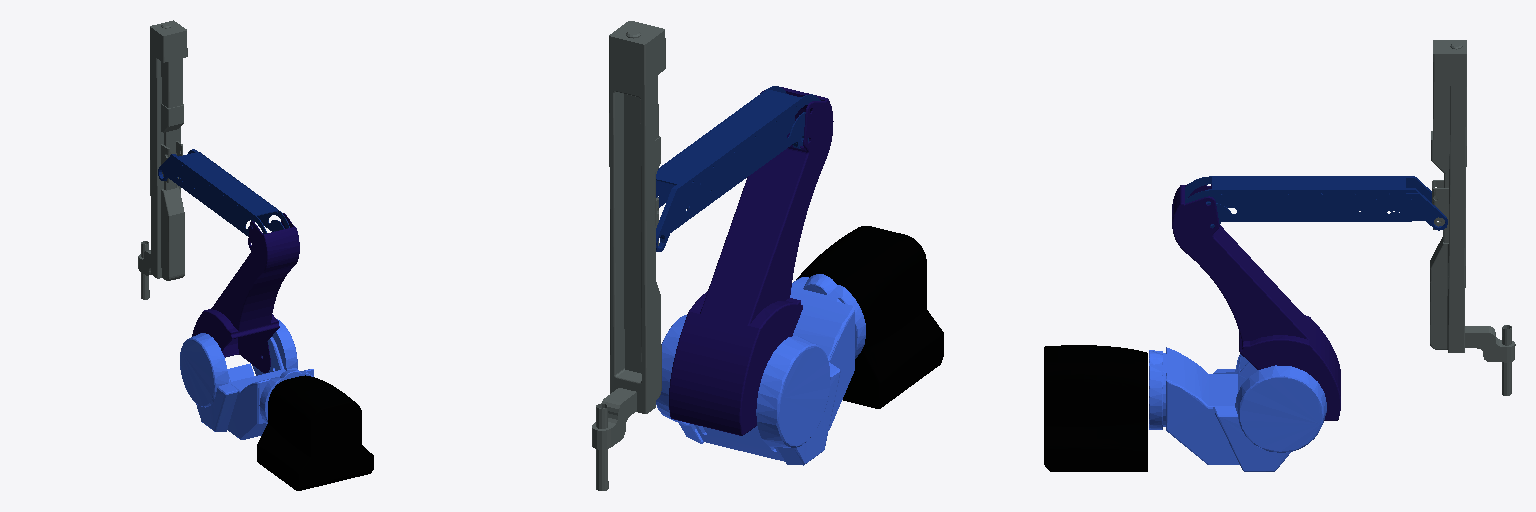
URDF robot description (robot):
<?xml version="1.0" ?>
<robot name="robot">
	<link name="world"/>
	<link name="base_link">
		<inertial>
			<mass value="0.1"/>
			<inertia ixx="0.0" ixy="0" ixz="0" iyy="0.0" iyz="0" izz="0.0"/>
			<origin xyz="-0.0046 -0.0 0.0801" rpy="0 0 0"/>
		</inertial>
		<visual>
			<origin xyz="0 0 0" rpy="0 0 0"/>
			<geometry>
				<mesh filename="package://ecm_description/meshes/base_link.dae"/>
			</geometry>
			<material name="color1">
				<color rgba="0.0106 0.0122 0.0112 1.0"/>
			</material>
		</visual>
		<collision>
			<origin xyz="0 0 0" rpy="0 0 0"/>
			<geometry>
				<mesh filename="package://ecm_description/meshes/base_link.STL"/>
			</geometry>
		</collision>
	</link>
	<gazebo reference="base_link">
		<selfCollide>true</selfCollide>
		<gravity>true</gravity>
		<material>Gazebo/Black</material>
	</gazebo>
	<link name="main_insertion_link">
		<inertial>
			<mass value="0.331"/>
			<inertia ixx="0.0" ixy="0" ixz="0" iyy="0.0" iyz="0" izz="0.0"/>
			<origin xyz="-0.059 -0.0165 0.0008" rpy="0 0 0"/>
		</inertial>
		<visual>
			<origin xyz="0 0 0" rpy="0 0 0"/>
			<geometry>
				<mesh filename="package://ecm_description/meshes/main_insertion_link.STL"/>
			</geometry>
			<material name="color2">
				<color rgba="0.0871 0.0871 0.0871 1.0"/>
			</material>
		</visual>
		<collision>
			<origin xyz="0 0 0" rpy="0 0 0"/>
			<geometry>
				<mesh filename="package://ecm_description/meshes/main_insertion_link.STL"/>
			</geometry>
		</collision>
	</link>
	<gazebo reference="main_insertion_link">
		<selfCollide>true</selfCollide>
		<gravity>true</gravity>
		<material>Gazebo/Purple</material>
	</gazebo>
	<link name="pitch_bottom_link">
		<inertial>
			<mass value="0.45899999999999996"/>
			<inertia ixx="0.0" ixy="0" ixz="0" iyy="0.0" iyz="0" izz="0.0"/>
			<origin xyz="0.1491 -0.0182 -0.0" rpy="0 0 0"/>
		</inertial>
		<visual>
			<origin xyz="0 0 0" rpy="0 0 0"/>
			<geometry>
				<mesh filename="package://ecm_description/meshes/pitch_bottom_link.dae"/>
			</geometry>
			<material name="color3">
				<color rgba="0.0938 0.2051 0.4672 1.0"/>
			</material>
		</visual>
		<collision>
			<origin xyz="0 0 0" rpy="0 0 0"/>
			<geometry>
				<mesh filename="package://ecm_description/meshes/pitch_bottom_link.STL"/>
			</geometry>
		</collision>
	</link>
	<gazebo reference="pitch_bottom_link">
		<selfCollide>true</selfCollide>
		<gravity>true</gravity>
		<material>Gazebo/Blu</material>
	</gazebo>
	<link name="pitch_end_link">
		<inertial>
			<mass value="2.132"/>
			<inertia ixx="0.0" ixy="0" ixz="0" iyy="0.0" iyz="0" izz="0.0"/>
			<origin xyz="0.0513 0.0048 0.0008" rpy="0 0 0"/>
		</inertial>
		<visual>
			<origin xyz="0 0 0" rpy="0 0 0"/>
			<geometry>
				<mesh filename="package://ecm_description/meshes/pitch_end_link.dae"/>
			</geometry>
			<material name="color4">
				<color rgba="0.3754 0.4109 0.4109 1.0"/>
			</material>
		</visual>
		<collision>
			<origin xyz="0 0 0" rpy="0 0 0"/>
			<geometry>
				<mesh filename="package://ecm_description/meshes/pitch_end_link.STL"/>
			</geometry>
		</collision>
	</link>
	<gazebo reference="pitch_end_link">
		<selfCollide>true</selfCollide>
		<gravity>true</gravity>
		<material>Gazebo/SkyBlue</material>
	</gazebo>
	<link name="pitch_front_link">
		<inertial>
			<mass value="1.707"/>
			<inertia ixx="0.0" ixy="0" ixz="0" iyy="0.0" iyz="0" izz="0.0"/>
			<origin xyz="-0.0365 -0.1526 -0.0" rpy="0 0 0"/>
		</inertial>
		<visual>
			<origin xyz="0 0 0" rpy="0 0 0"/>
			<geometry>
				<mesh filename="package://ecm_description/meshes/pitch_front_link.dae"/>
			</geometry>
			<material name="color5">
				<color rgba="0.1344 0.0886 0.3672 1.0"/>
			</material>
		</visual>
		<collision>
			<origin xyz="0 0 0" rpy="0 0 0"/>
			<geometry>
				<mesh filename="package://ecm_description/meshes/pitch_front_link.STL"/>
			</geometry>
		</collision>
	</link>
	<gazebo reference="pitch_front_link">
		<selfCollide>true</selfCollide>
		<gravity>true</gravity>
		<material>Gazebo/Indigo</material>
	</gazebo>
	<link name="tool_link">
		<inertial>
			<mass value="2.007"/>
			<inertia ixx="0.0" ixy="0" ixz="0" iyy="0.0" iyz="0" izz="0.0"/>
			<origin xyz="-0.0 -0.0008 -0.0723" rpy="0 0 0"/>
		</inertial>
		<visual>
			<origin xyz="0 0 0" rpy="0 0 0"/>
			<geometry>
				<mesh filename="package://ecm_description/meshes/tool_link.STL"/>
			</geometry>
			<material name="color6">
				<color rgba="0.273 0.3733 0.6266 1.0"/>
			</material>
		</visual>
		<collision>
			<origin xyz="0 0 0" rpy="0 0 0"/>
			<geometry>
				<mesh filename="package://ecm_description/meshes/tool_link.STL"/>
			</geometry>
		</collision>
	</link>
	<gazebo reference="tool_link">
		<selfCollide>true</selfCollide>
		<gravity>true</gravity>
		<material>Gazebo/BlueTransparent</material>
	</gazebo>
	<link name="yaw_link">
		<inertial>
			<mass value="6.5169999999999995"/>
			<inertia ixx="0.0" ixy="0" ixz="0" iyy="0.0" iyz="0" izz="0.0"/>
			<origin xyz="0.0 -0.0161 0.1345" rpy="0 0 0"/>
		</inertial>
		<visual>
			<origin xyz="0 0 0" rpy="0 0 0"/>
			<geometry>
				<mesh filename="package://ecm_description/meshes/yaw_link.dae"/>
			</geometry>
			<material name="color7">
				<color rgba="0.3072 0.4814 0.955 1.0"/>
			</material>
		</visual>
		<collision>
			<origin xyz="0 0 0" rpy="0 0 0"/>
			<geometry>
				<mesh filename="package://ecm_description/meshes/yaw_link.STL"/>
			</geometry>
		</collision>
	</link>
	<gazebo reference="yaw_link">
		<selfCollide>true</selfCollide>
		<gravity>true</gravity>
		<material>Gazebo/BlueLaser</material>
	</gazebo>
	<joint name="base_joint" type="fixed">
		<parent link="world"/>
		<child link="base_link"/>
		<origin xyz="0.0 0.0 1.5" rpy="0.0 0.0 0.0"/>
	</joint>
	<joint name="base_link__yaw_link" type="revolute">
		<parent link="base_link"/>
		<child link="yaw_link"/>
		<origin xyz="-7.380001284085225e-06 -0.536900009262 0.0" rpy="1.5708 -0.0 3.1414"/>
		<axis xyz="-0.0 -0.0 -1.0"/>
		<limit lower="-1.595" upper="1.582" effort="1000" velocity="1"/>
		<dynamics damping="2.0" friction="0.0"/>
	</joint>
	<transmission name="yaw_link_trans">
		<type>transmission_interface/SimpleTransmission</type>
		<joint name="base_link__yaw_link">
			<hardwareInterface>hardware_interface/PositionJointInterface</hardwareInterface>
		</joint>
		<actuator name="yaw_link_motor">
			<hardwareInterface>hardware_interface/PositionJointInterface</hardwareInterface>
			<mechanicalReduction>1</mechanicalReduction>
		</actuator>
	</transmission>
	<joint name="main_insertion_link__tool_link" type="revolute">
		<parent link="main_insertion_link"/>
		<child link="tool_link"/>
		<origin xyz="0.0010359395658425807 -0.061909506627982336 -0.00019954522228837757" rpy="-1.5707963267814042 3.6732051033300526e-06 1.5708"/>
		<axis xyz="-0.0 -0.0 -1.0"/>
		<limit lower="-1.553" upper="1.567" effort="1000" velocity="1"/>
		<dynamics damping="0.2" friction="0.0"/>
	</joint>
	<transmission name="tool_link_trans">
		<type>transmission_interface/SimpleTransmission</type>
		<joint name="main_insertion_link__tool_link">
			<hardwareInterface>hardware_interface/PositionJointInterface</hardwareInterface>
		</joint>
		<actuator name="tool_link_motor">
			<hardwareInterface>hardware_interface/PositionJointInterface</hardwareInterface>
			<mechanicalReduction>1</mechanicalReduction>
		</actuator>
	</transmission>
	<joint name="pitch_bottom_link__pitch_end_link" type="revolute">
		<parent link="pitch_bottom_link"/>
		<child link="pitch_end_link"/>
		<origin xyz="0.34009999779378264 -0.00019999779148682784 -0.0006012499916885905" rpy="-1.0330840927080905e-10 -2.7548780003591397e-08 0.007499999999949406"/>
		<axis xyz="0.0 -0.0 1.0"/>
		<limit lower="-0.784" upper="1.158" effort="1000" velocity="1"/>
		<dynamics damping="0.0" friction="0.0"/>
	</joint>
	<transmission name="pitch_end_link_trans">
		<type>transmission_interface/SimpleTransmission</type>
		<joint name="pitch_bottom_link__pitch_end_link">
			<hardwareInterface>hardware_interface/PositionJointInterface</hardwareInterface>
		</joint>
		<actuator name="pitch_end_link_motor">
			<hardwareInterface>hardware_interface/PositionJointInterface</hardwareInterface>
			<mechanicalReduction>1</mechanicalReduction>
		</actuator>
	</transmission>
	<joint name="pitch_end_link__main_insertion_link" type="prismatic">
		<parent link="pitch_end_link"/>
		<child link="main_insertion_link"/>
		<origin xyz="0.04116208071705335 -0.08521110962857309 9.953346214386372e-05" rpy="1.1019422388017521e-05 -3.728275679223979e-06 1.570792653589591"/>
		<axis xyz="1.0 -0.0 -0.0"/>
		<limit lower="0.0" upper="0.254" effort="1000" velocity="1"/>
		<dynamics damping="5.0" friction="0.0"/>
	</joint>
	<transmission name="main_insertion_link_trans">
		<type>transmission_interface/SimpleTransmission</type>
		<joint name="pitch_end_link__main_insertion_link">
			<hardwareInterface>hardware_interface/PositionJointInterface</hardwareInterface>
		</joint>
		<actuator name="main_insertion_link_motor">
			<hardwareInterface>hardware_interface/PositionJointInterface</hardwareInterface>
			<mechanicalReduction>1</mechanicalReduction>
		</actuator>
	</transmission>
	<joint name="pitch_front_link__pitch_bottom_link" type="revolute">
		<parent link="pitch_front_link"/>
		<child link="pitch_bottom_link"/>
		<origin xyz="-0.10299999816270256 -0.2867000018360581 0.000499325232215686" rpy="3.617441230323139e-22 3.6174429020454476e-22 1.7930753724679503e-27"/>
		<axis xyz="0.0 0.0 1.0"/>
		<limit lower="-1.158" upper="0.784" effort="1000" velocity="1"/>
		<dynamics damping="0.3" friction="0.0"/>
	</joint>
	<transmission name="pitch_bottom_link_trans">
		<type>transmission_interface/SimpleTransmission</type>
		<joint name="pitch_front_link__pitch_bottom_link">
			<hardwareInterface>hardware_interface/PositionJointInterface</hardwareInterface>
		</joint>
		<actuator name="pitch_bottom_link_motor">
			<hardwareInterface>hardware_interface/PositionJointInterface</hardwareInterface>
			<mechanicalReduction>1</mechanicalReduction>
		</actuator>
	</transmission>
	<joint name="yaw_link__pitch_front_link" type="revolute">
		<parent link="yaw_link"/>
		<child link="pitch_front_link"/>
		<origin xyz="-1.461935631108524e-06 7.309678156097732e-07 0.19899999999328755" rpy="0.7853944901957182 -1.570791132098422 2.3561944901957177"/>
		<axis xyz="-0.0 -0.0 1.0"/>
		<limit lower="-0.784" upper="1.158" effort="1000" velocity="1"/>
		<dynamics damping="0.0" friction="0.0"/>
	</joint>
	<transmission name="pitch_front_link_trans">
		<type>transmission_interface/SimpleTransmission</type>
		<joint name="yaw_link__pitch_front_link">
			<hardwareInterface>hardware_interface/PositionJointInterface</hardwareInterface>
		</joint>
		<actuator name="pitch_front_link_motor">
			<hardwareInterface>hardware_interface/PositionJointInterface</hardwareInterface>
			<mechanicalReduction>1</mechanicalReduction>
		</actuator>
	</transmission>
	<gazebo>
		<plugin name="control" filename="libgazebo_ros_control.so">
			<robotNamespace>/</robotNamespace>
		</plugin>
	</gazebo>
</robot>

--- Facts derived from the render (not from the file) ---
The picture shows the robot from 3 angles, left to right: view 1: azimuth 30°, elevation 25°; view 2: azimuth 150°, elevation 25°; view 3: azimuth 270°, elevation 25°; orthographic projection.
Model robot with 8 links and 7 joints (5 revolute, 1 prismatic, 1 fixed), rooted at world, posed every joint at zero.
Links seen in each view (by area): view 1: base_link, pitch_end_link, yaw_link, pitch_front_link, pitch_bottom_link; view 2: pitch_front_link, pitch_end_link, yaw_link, base_link, pitch_bottom_link; view 3: yaw_link, base_link, pitch_front_link, pitch_end_link, pitch_bottom_link.
Boxes of the visible links, <box> form: base_link: <box>257,375,373,490</box>; pitch_end_link: <box>138,20,187,299</box>; yaw_link: <box>180,319,313,439</box>; pitch_front_link: <box>192,213,299,372</box>; pitch_bottom_link: <box>158,149,289,236</box>; pitch_front_link: <box>669,87,833,435</box>; pitch_end_link: <box>592,21,665,490</box>; yaw_link: <box>656,274,865,465</box>; base_link: <box>796,226,943,408</box>; pitch_bottom_link: <box>656,86,820,251</box>; yaw_link: <box>1149,347,1326,471</box>; base_link: <box>1044,345,1147,471</box>; pitch_front_link: <box>1172,184,1340,420</box>; pitch_end_link: <box>1430,40,1515,395</box>; pitch_bottom_link: <box>1185,176,1447,230</box>.
Bounding box of the posed robot: 0.176 × 0.7056 × 0.6712 m (x, y, z).
Meshes: 7 distinct files referenced, 5 mesh visuals loaded (5 Collada DAE); not drawn: 2 (reference not matched to a file when rendering).